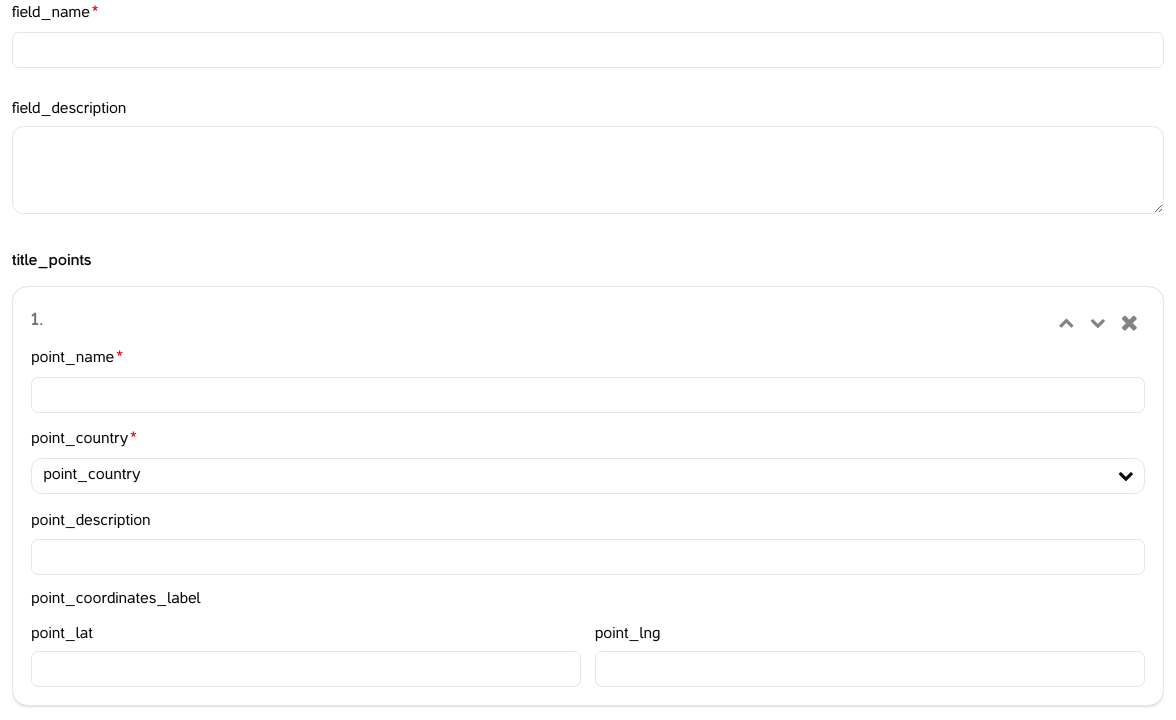
Test case: Submission outcomes › CAM-FE-25: 409 response shows conflict error message
Expected: the dropdown is shown, [31,458,1145,494]
In the field labelled "field_name": (588, 50) [12,32,1164,68], type "Camino Francés"
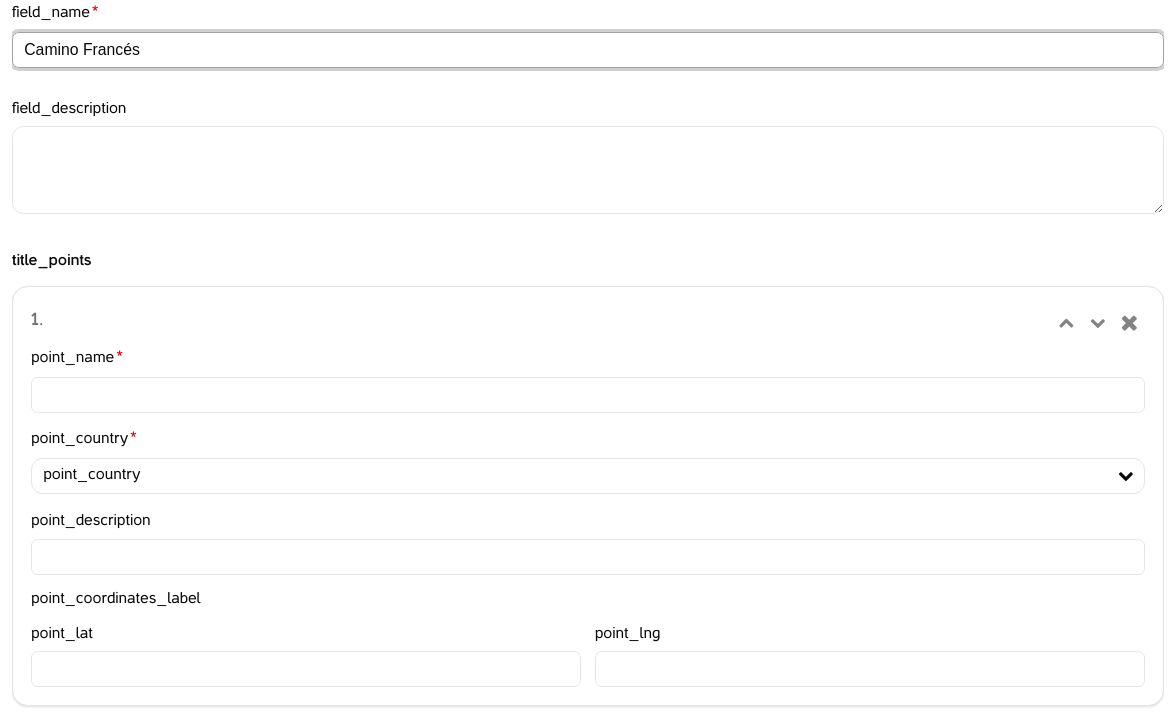
In the field labelled "point_name": (588, 394) [31,376,1145,412], type "Saint-Jean-Pied-de-Port"
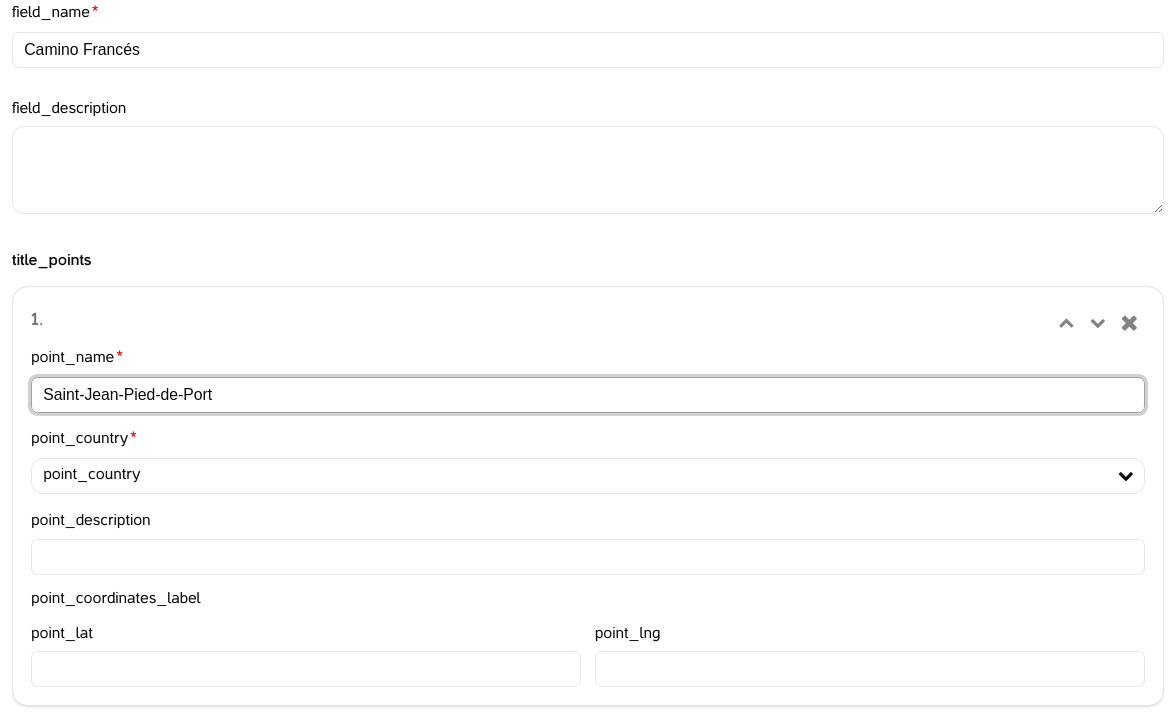
Select "france" in the dropdown labelled "point_country": (588, 476) [31,458,1145,494]
(page scrolled)
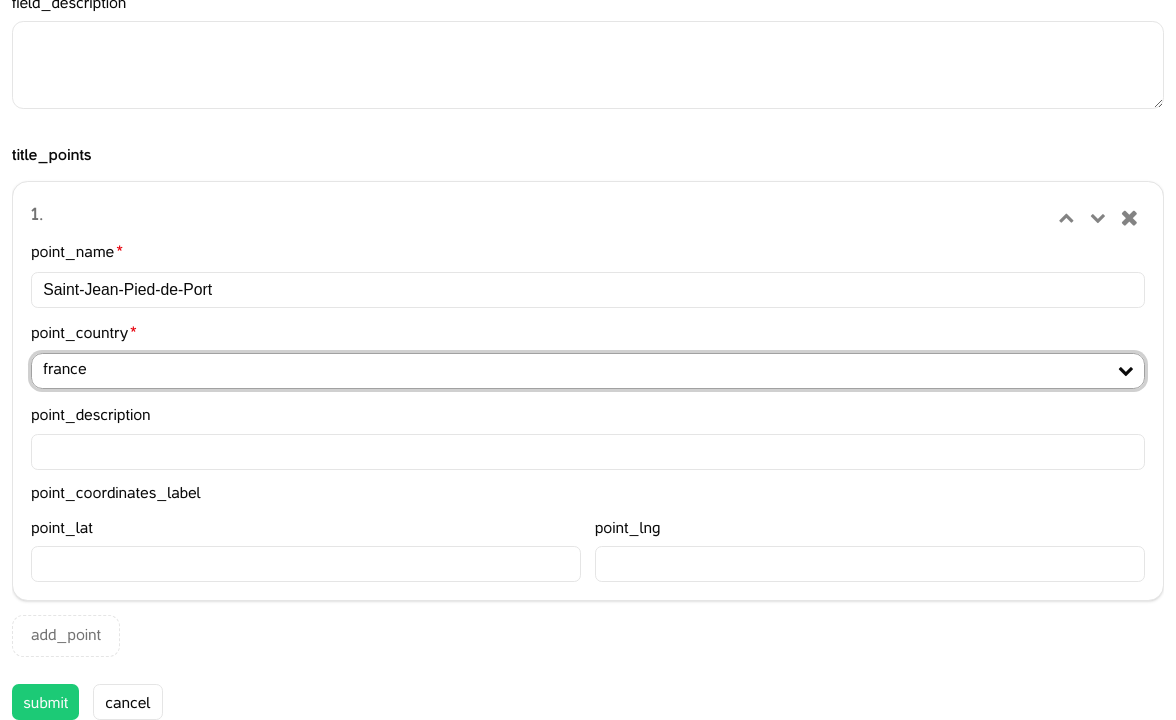
Click the button "submit": (46, 702) [12,684,79,719]
(page scrolled)
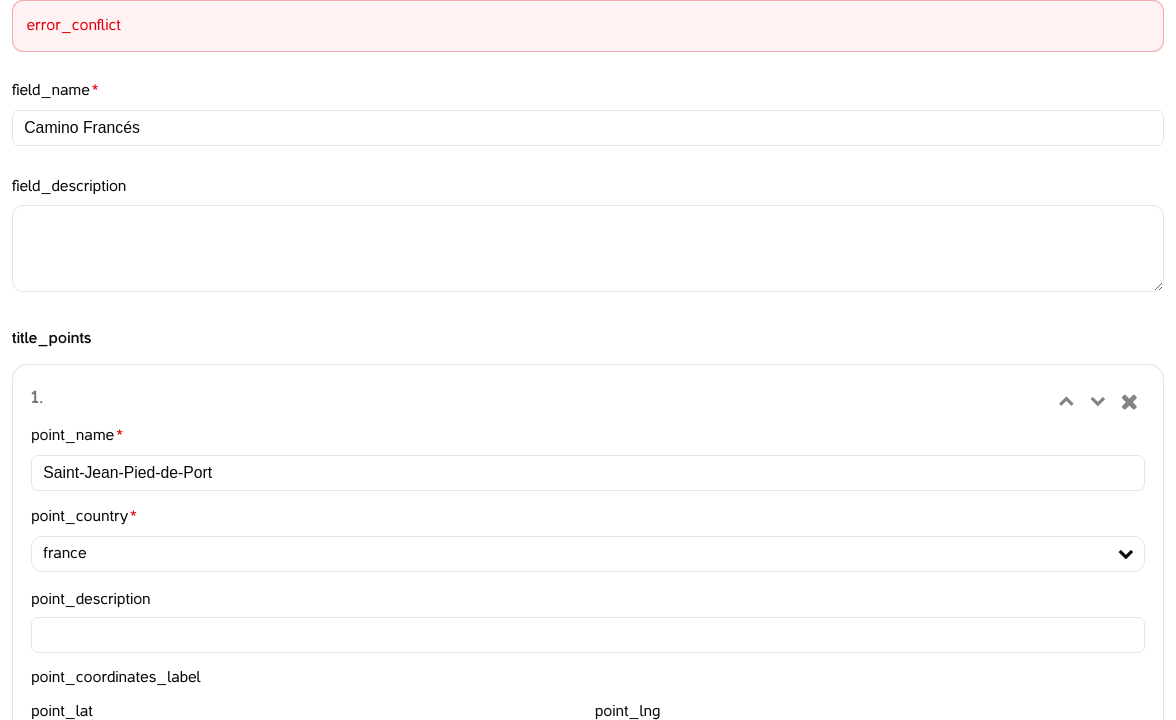
Result: the message reads "error_conflict" at [26,18,121,32]
